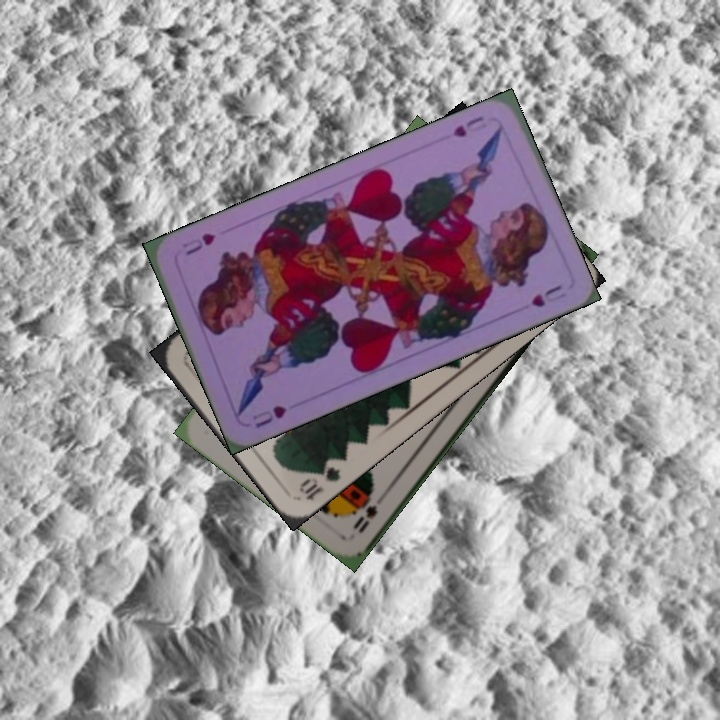G10: (294, 459, 344, 503)
HU: (248, 401, 290, 431), (449, 112, 486, 140)
SO: (348, 494, 380, 536)
